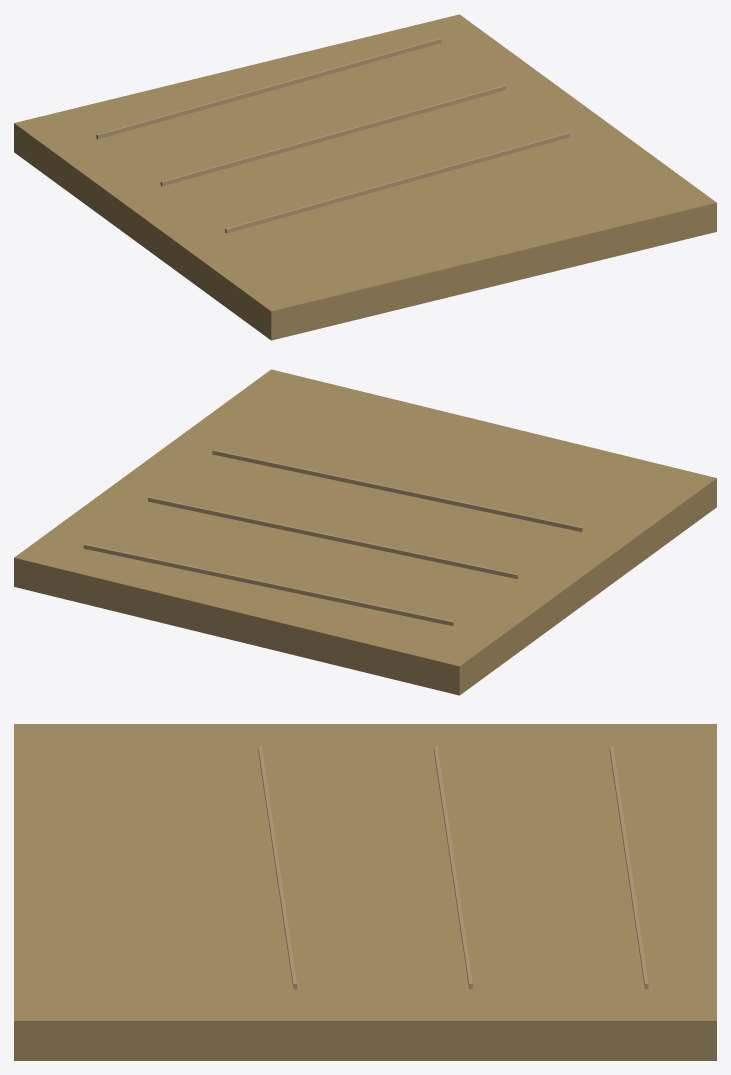
Rendered from terrain-sand-flat.lod0.glb.
3 views of the same model, one above another, from view 1: azimuth 30°, elevation 25°; view 2: azimuth 150°, elevation 25°; view 3: azimuth 270°, elevation 25° (orthographic). The views are drawn at different scales.
Parts seen in each view (by area): view 1: terrain-sand-flat__body; view 2: terrain-sand-flat__body; view 3: terrain-sand-flat__body.
Part boxes in pixels (x1=…): terrain-sand-flat__body: x1=14, y1=14, x2=716, y2=340; terrain-sand-flat__body: x1=14, y1=369, x2=716, y2=695; terrain-sand-flat__body: x1=14, y1=724, x2=716, y2=1060.
Size of the model in its own units: 2 by 0.1485 by 2.
